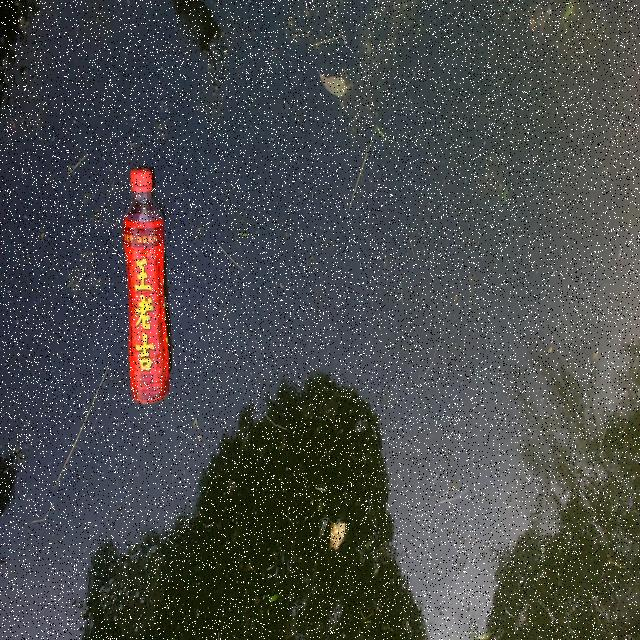Bottle: (121, 159, 173, 406)
